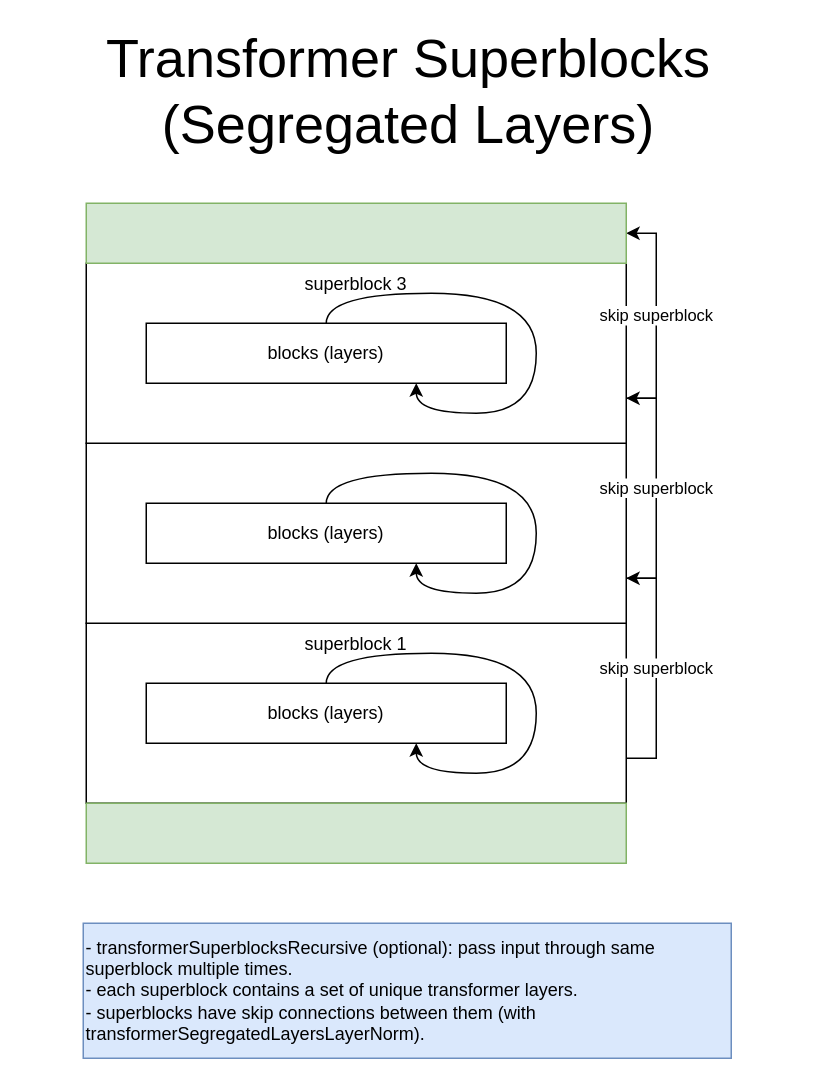
This 816x1085 diagram has some shape labels left out. Here are the shapes that lost their labels. From the top down, the box of each, then its label:
(85, 202, 626, 263): transformer head
(85, 442, 626, 623): superblock 2
(85, 802, 626, 863): transformer input
